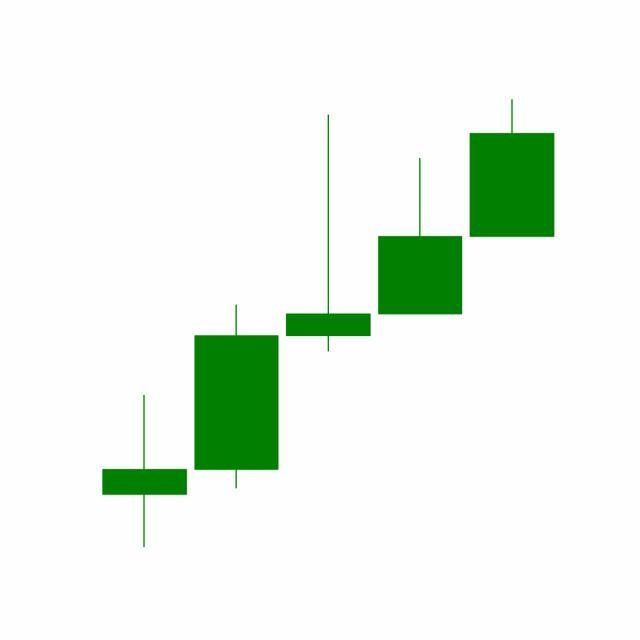Marubozu: (466, 98, 559, 239)
